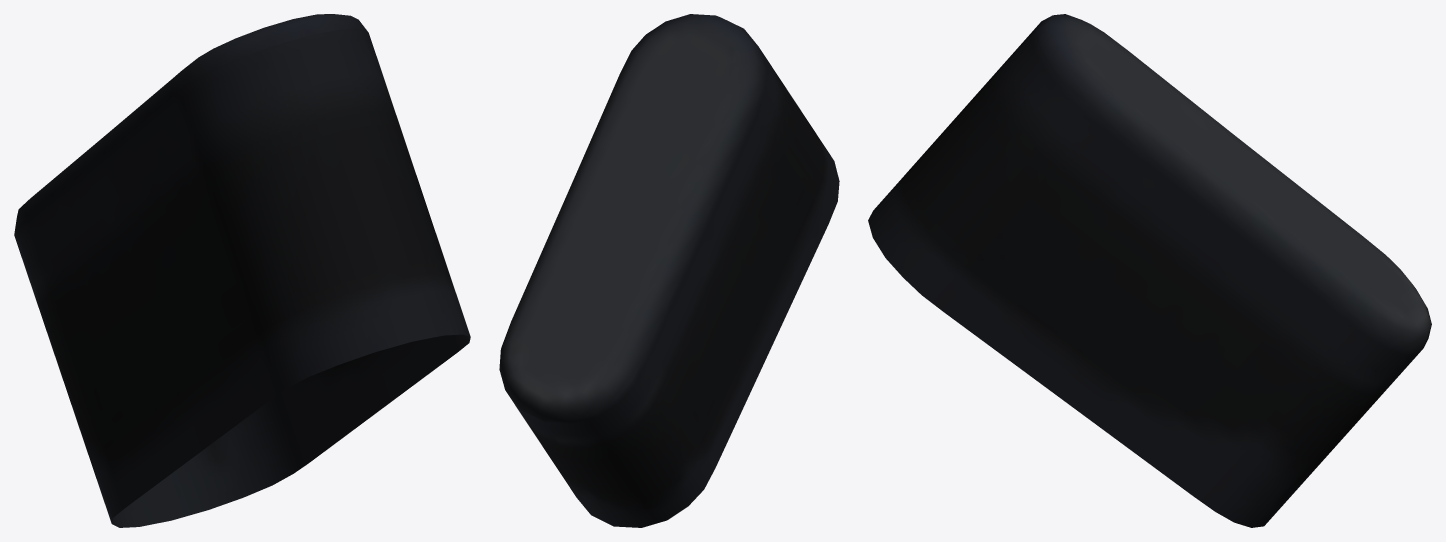
File: playstation_vr2_sense_right_option.obj
3 renders of one model, left to right at view 1: azimuth 30°, elevation 25°; view 2: azimuth 150°, elevation 25°; view 3: azimuth 270°, elevation 25°, orthographic. The views are drawn at different scales.
Parts seen in each view (by area): view 1: mesh_option_button_R; view 2: mesh_option_button_R; view 3: mesh_option_button_R.
Part boxes in pixels (bbox=[...]): mesh_option_button_R: bbox=[14, 14, 470, 527]; mesh_option_button_R: bbox=[499, 14, 839, 527]; mesh_option_button_R: bbox=[868, 14, 1431, 527].
Size of the model in its own units: 0.00319 by 0.00982 by 0.0102.
1 material, 1 textured.
